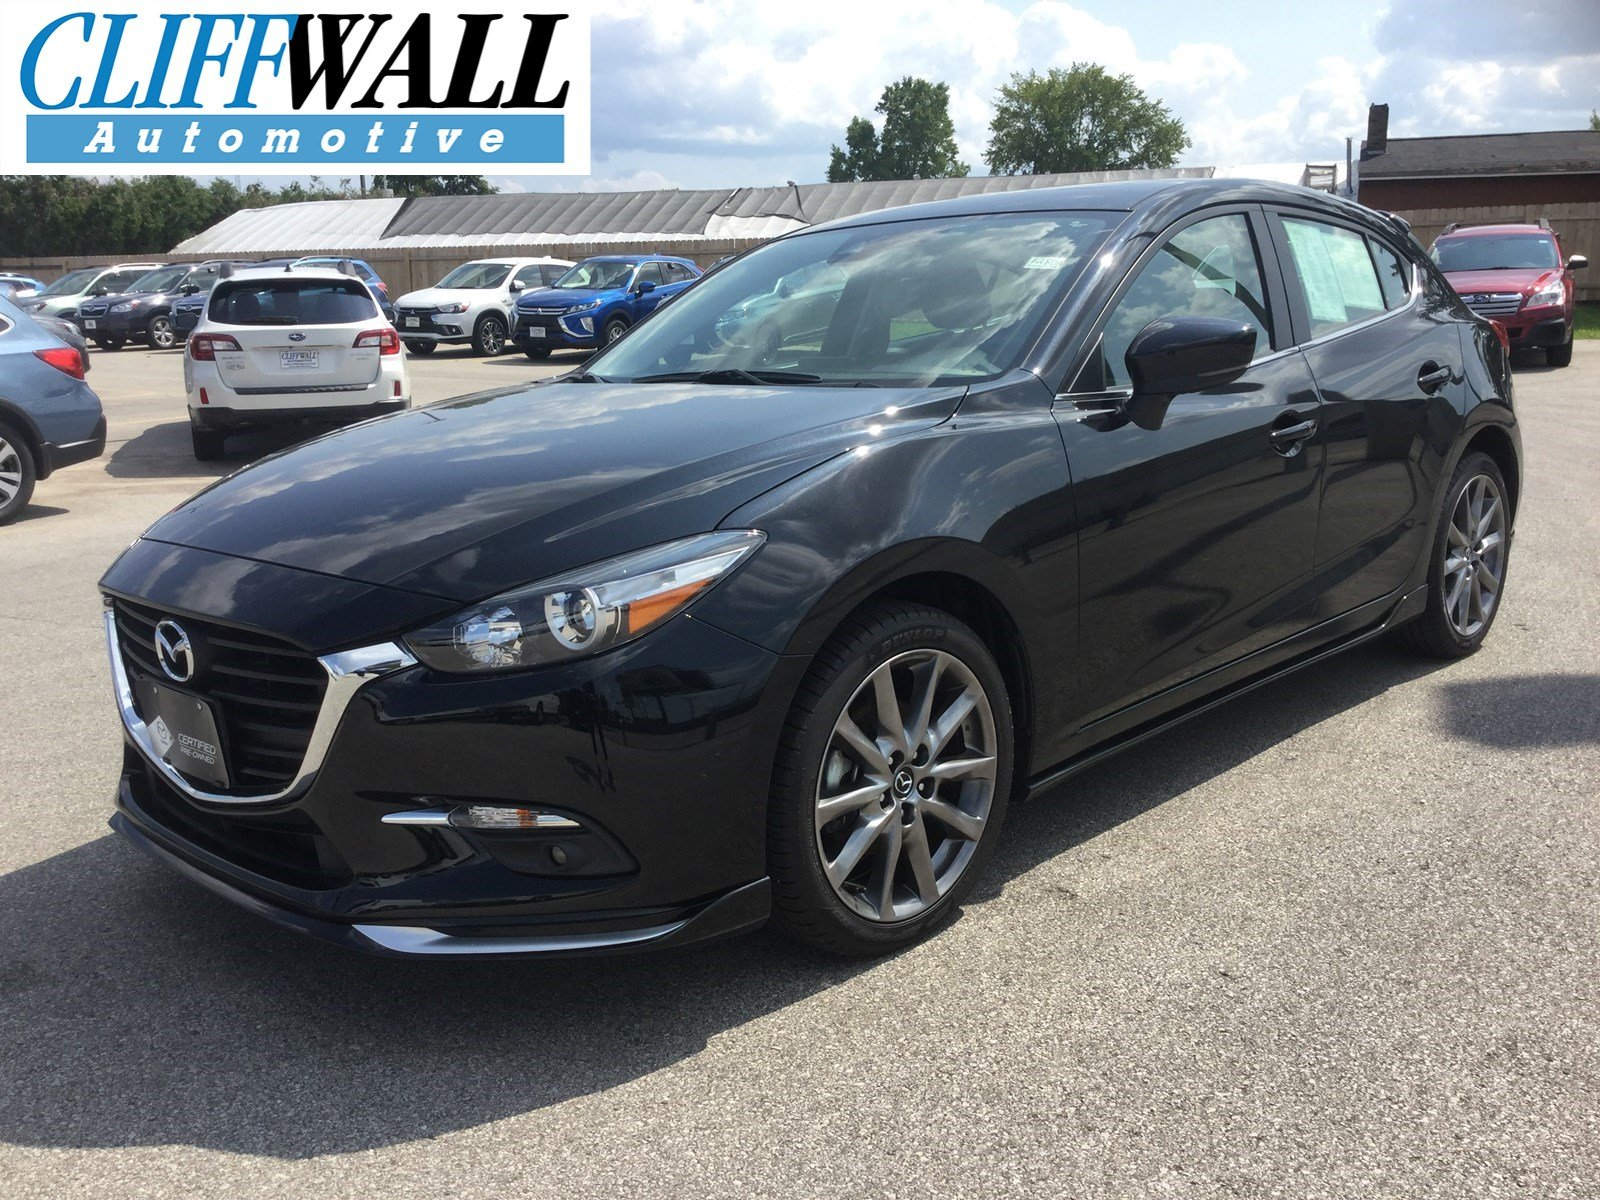Mazda3 Hatchback: (94, 174, 1528, 974)
